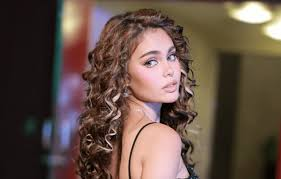face: (130, 40, 186, 104)
